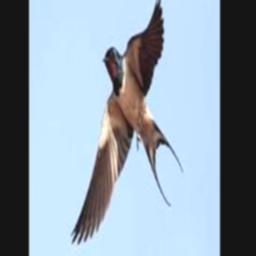Swallow: (69, 0, 183, 243)
